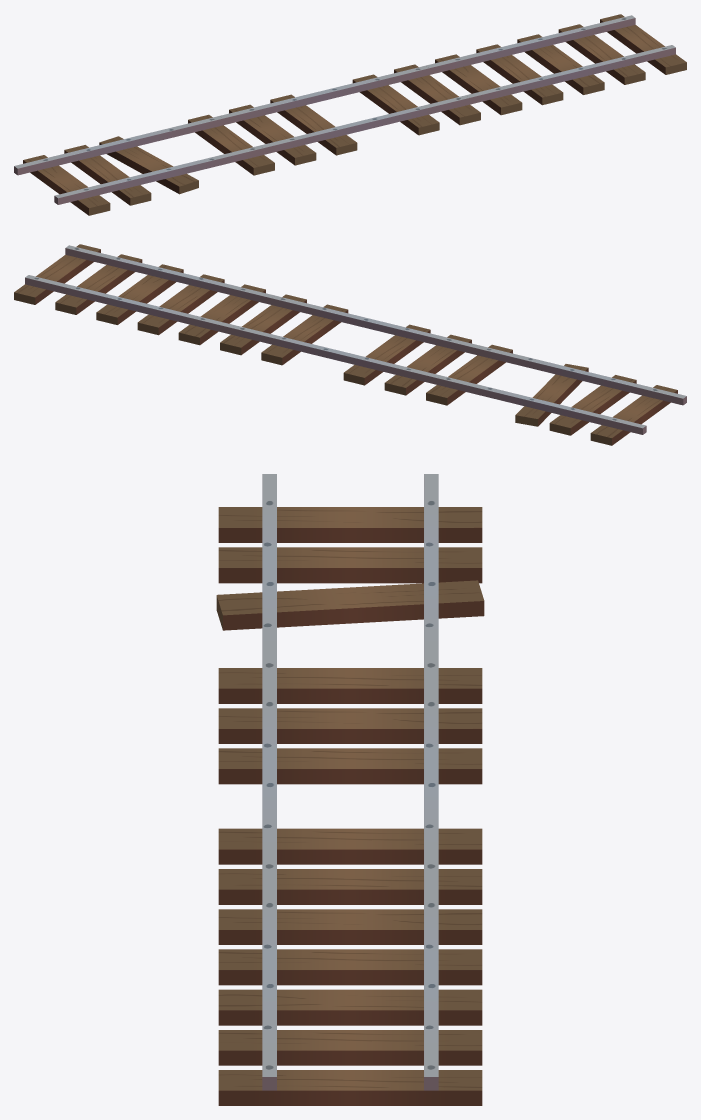
Rendered from env_rails_export_01.fbx.
3 views of the same model, one above another, from view 1: azimuth 30°, elevation 25°; view 2: azimuth 150°, elevation 25°; view 3: azimuth 270°, elevation 25° (orthographic). The views are drawn at different scales.
Visible parts, largest first — view 1: rail, ruined_rail2, ruined_rail1; view 2: rail, ruined_rail1, ruined_rail2; view 3: rail, ruined_rail1, ruined_rail2.
Boxes of the visible parts, x1=… form: rail: x1=426, y1=14, x2=686, y2=115; ruined_rail2: x1=14, y1=114, x2=274, y2=215; ruined_rail1: x1=220, y1=64, x2=480, y2=165; rail: x1=14, y1=244, x2=274, y2=345; ruined_rail1: x1=220, y1=294, x2=480, y2=395; ruined_rail2: x1=426, y1=344, x2=686, y2=445; rail: x1=218, y1=876, x2=482, y2=1105; ruined_rail1: x1=218, y1=675, x2=482, y2=904; ruined_rail2: x1=216, y1=474, x2=484, y2=703.
Bounding box in the file's own units: 30 × 0.669 × 5.63.
Materials: 1 (1 with a texture image).
